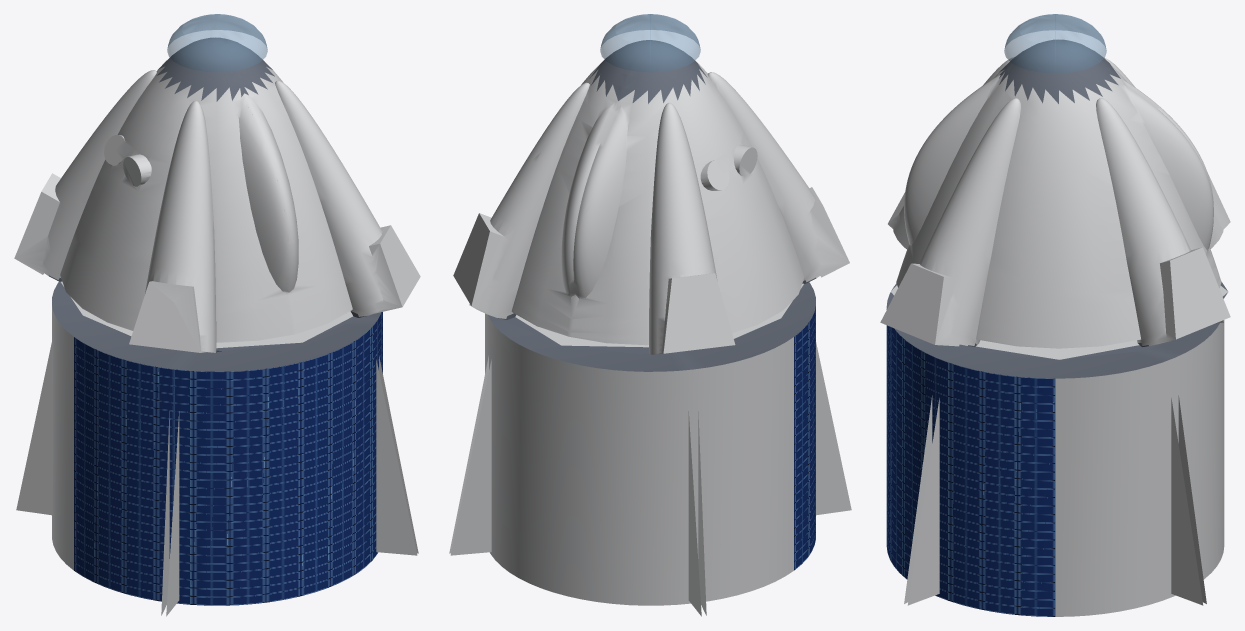
Rendered from sc_crew_dragon.glb.
The picture shows the model from 3 angles, left to right: view 1: azimuth 30°, elevation 25°; view 2: azimuth 150°, elevation 25°; view 3: azimuth 270°, elevation 25°; orthographic projection.
Visible parts, largest first — view 1: dragon_white_structure, dragon_solar_trunk, dragon_dark_details, dragon_cupola; view 2: dragon_white_structure, dragon_dark_details, dragon_solar_trunk, dragon_cupola; view 3: dragon_white_structure, dragon_solar_trunk, dragon_dark_details, dragon_cupola.
Boxes of the visible parts, <box> form: dragon_white_structure: <box>14,62,420,616</box>; dragon_solar_trunk: <box>74,312,382,605</box>; dragon_dark_details: <box>49,37,380,371</box>; dragon_cupola: <box>167,14,267,72</box>; dragon_white_structure: <box>449,60,851,616</box>; dragon_dark_details: <box>488,40,816,371</box>; dragon_solar_trunk: <box>794,306,815,570</box>; dragon_cupola: <box>600,14,700,72</box>; dragon_white_structure: <box>880,57,1230,616</box>; dragon_solar_trunk: <box>886,309,1055,616</box>; dragon_dark_details: <box>886,39,1227,378</box>; dragon_cupola: <box>1004,14,1106,73</box>.
Size of the model in its own units: 0.9547 by 1.63 by 0.987.
4 materials, 1 textured.
